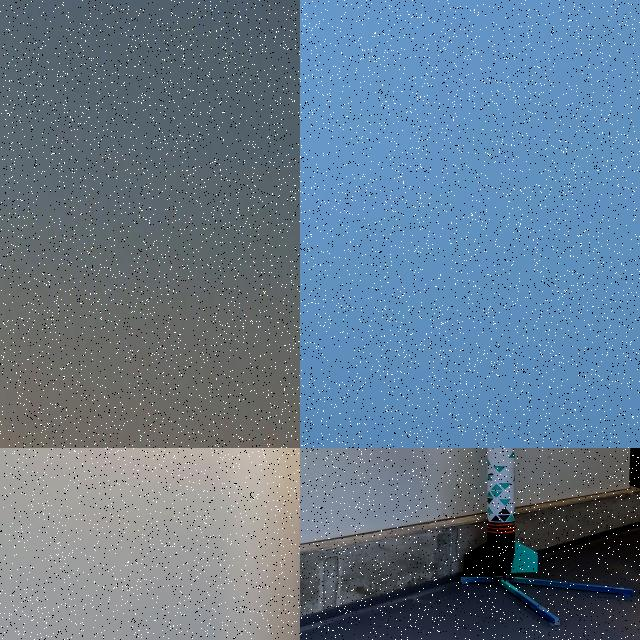Rocket: (463, 448, 539, 583), (617, 273, 624, 280)
